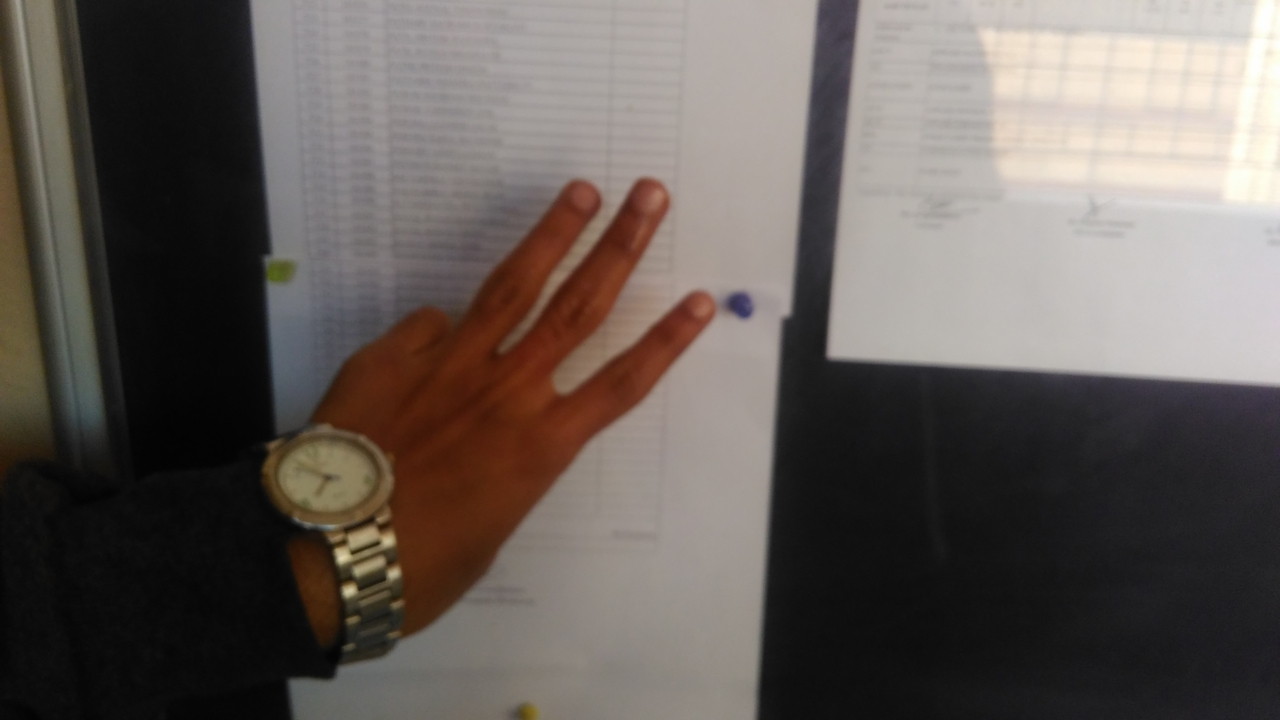fingertip: (610, 168, 674, 220), (542, 166, 608, 216), (665, 279, 722, 327)
